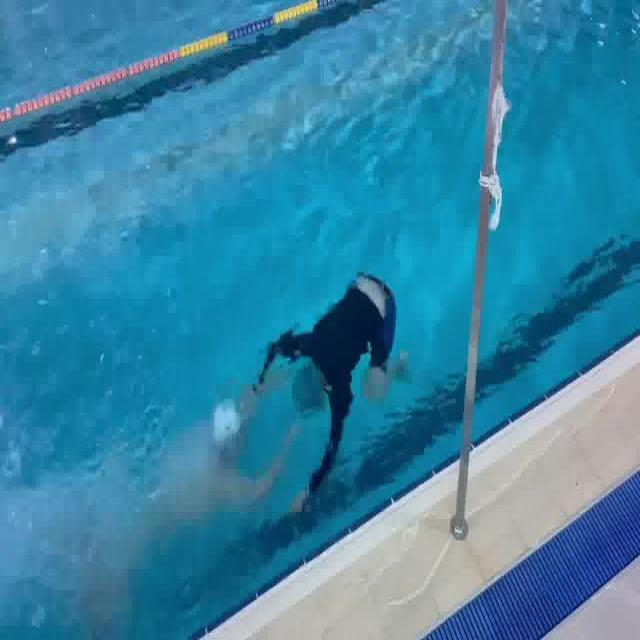Drowning: (247, 270, 425, 510)
Swimming: (146, 391, 298, 497)
